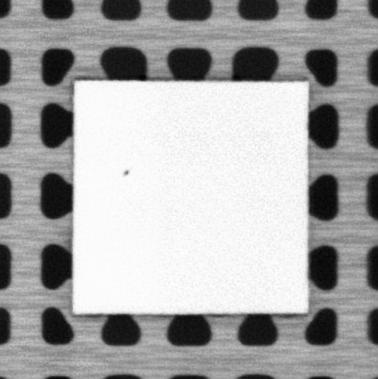DIE_INK: (120, 166, 131, 177)
